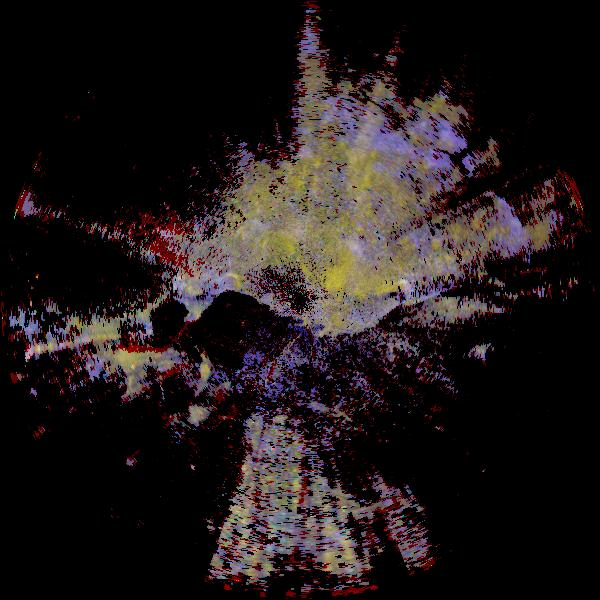roost: (143, 330, 221, 408), (79, 344, 148, 413)
